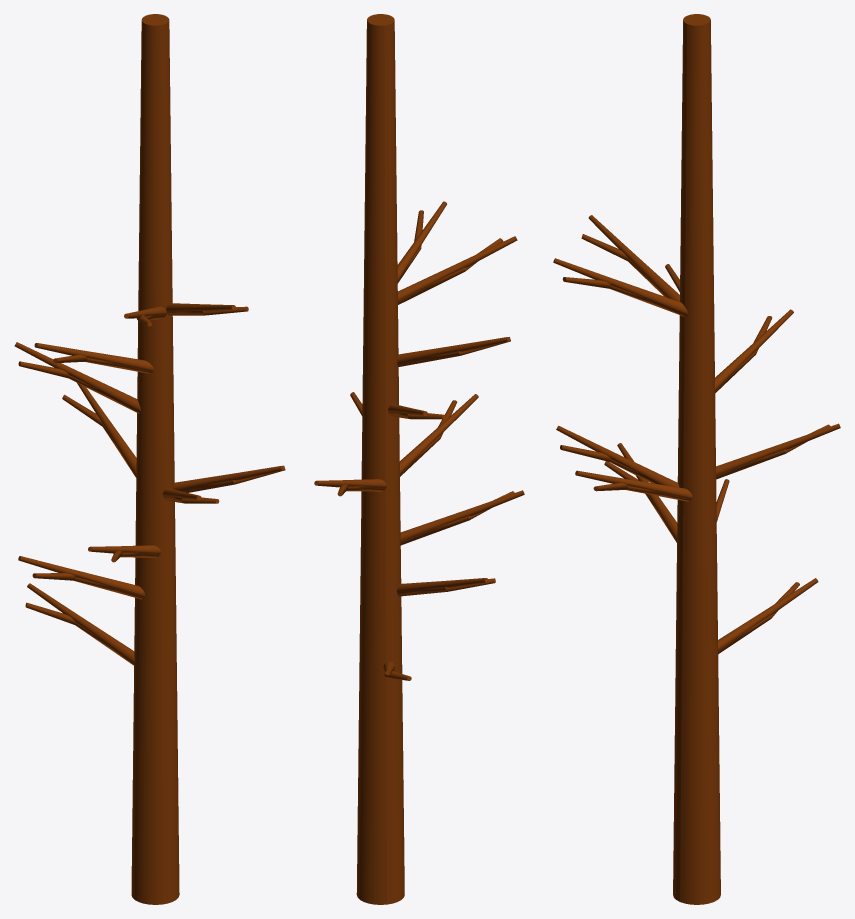
File: trunk.fbx
3 renders of one model, left to right at view 1: azimuth 30°, elevation 25°; view 2: azimuth 150°, elevation 25°; view 3: azimuth 270°, elevation 25°, orthographic.
Parts seen in each view (by area): view 1: Group3, Group_45_1, Group_45_2, Group_45_8, Group_45_4, Group_45_3, Group_45_6, Group_45_10, Group_45_5; view 2: Group3, Group_45_9, Group_45_5, Group_45_4, Group_45_7, Group_45_8, Group_45_10, Group_45_3, Group_45_1; view 3: Group3, Group_45_10, Group_45_7, Group_45_9, Group_45_3, Group_45_6, Group_45_2, Group_45_1, Group_45_5.
Part boxes in pixels (x1=…): Group3: x1=131, y1=14, x2=179, y2=904; Group_45_1: x1=14, y1=342, x2=140, y2=413; Group_45_2: x1=25, y1=583, x2=134, y2=665; Group_45_8: x1=18, y1=556, x2=145, y2=599; Group_45_4: x1=34, y1=343, x2=153, y2=373; Group_45_3: x1=62, y1=383, x2=136, y2=477; Group_45_6: x1=173, y1=465, x2=285, y2=492; Group_45_10: x1=166, y1=303, x2=248, y2=315; Group_45_5: x1=88, y1=545, x2=160, y2=562; Group3: x1=356, y1=14, x2=404, y2=904; Group_45_9: x1=398, y1=236, x2=517, y2=304; Group_45_5: x1=400, y1=490, x2=524, y2=545; Group_45_4: x1=397, y1=337, x2=510, y2=366; Group_45_7: x1=399, y1=394, x2=478, y2=476; Group_45_8: x1=397, y1=578, x2=495, y2=596; Group_45_10: x1=397, y1=201, x2=446, y2=283; Group_45_3: x1=314, y1=479, x2=386, y2=496; Group_45_1: x1=388, y1=404, x2=445, y2=419; Group3: x1=673, y1=14, x2=720, y2=904; Group_45_10: x1=553, y1=258, x2=687, y2=316; Group_45_7: x1=556, y1=425, x2=679, y2=487; Group_45_9: x1=581, y1=215, x2=679, y2=301; Group_45_3: x1=716, y1=423, x2=840, y2=479; Group_45_6: x1=575, y1=470, x2=692, y2=501; Group_45_2: x1=718, y1=578, x2=818, y2=653; Group_45_1: x1=715, y1=309, x2=793, y2=392; Group_45_5: x1=604, y1=443, x2=677, y2=542.
Bounding box in the file's own units: 39301 × 160743 × 47840.
